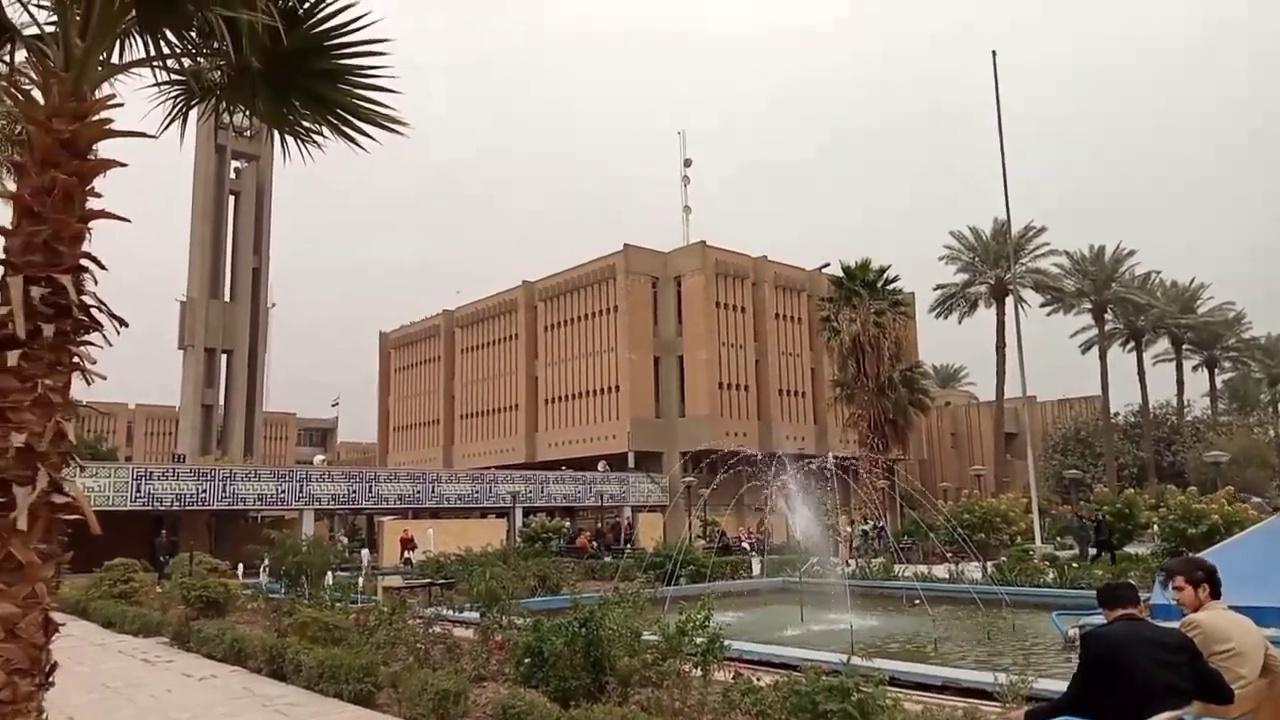fountain: (494, 444, 1160, 704), (431, 566, 1272, 707)
person: (997, 579, 1235, 719), (1147, 555, 1279, 719), (1088, 510, 1117, 566), (153, 528, 176, 592), (398, 527, 418, 569), (258, 551, 270, 587), (359, 543, 371, 574)
tree: (0, 0, 410, 717), (124, 0, 412, 465), (127, 0, 411, 166), (927, 214, 1062, 545), (814, 255, 934, 546), (1038, 239, 1160, 494), (1112, 273, 1243, 489), (1104, 273, 1170, 490), (1142, 274, 1217, 426), (1185, 300, 1254, 425), (245, 525, 346, 600), (1250, 329, 1279, 510), (1251, 329, 1279, 415), (927, 360, 970, 389)
